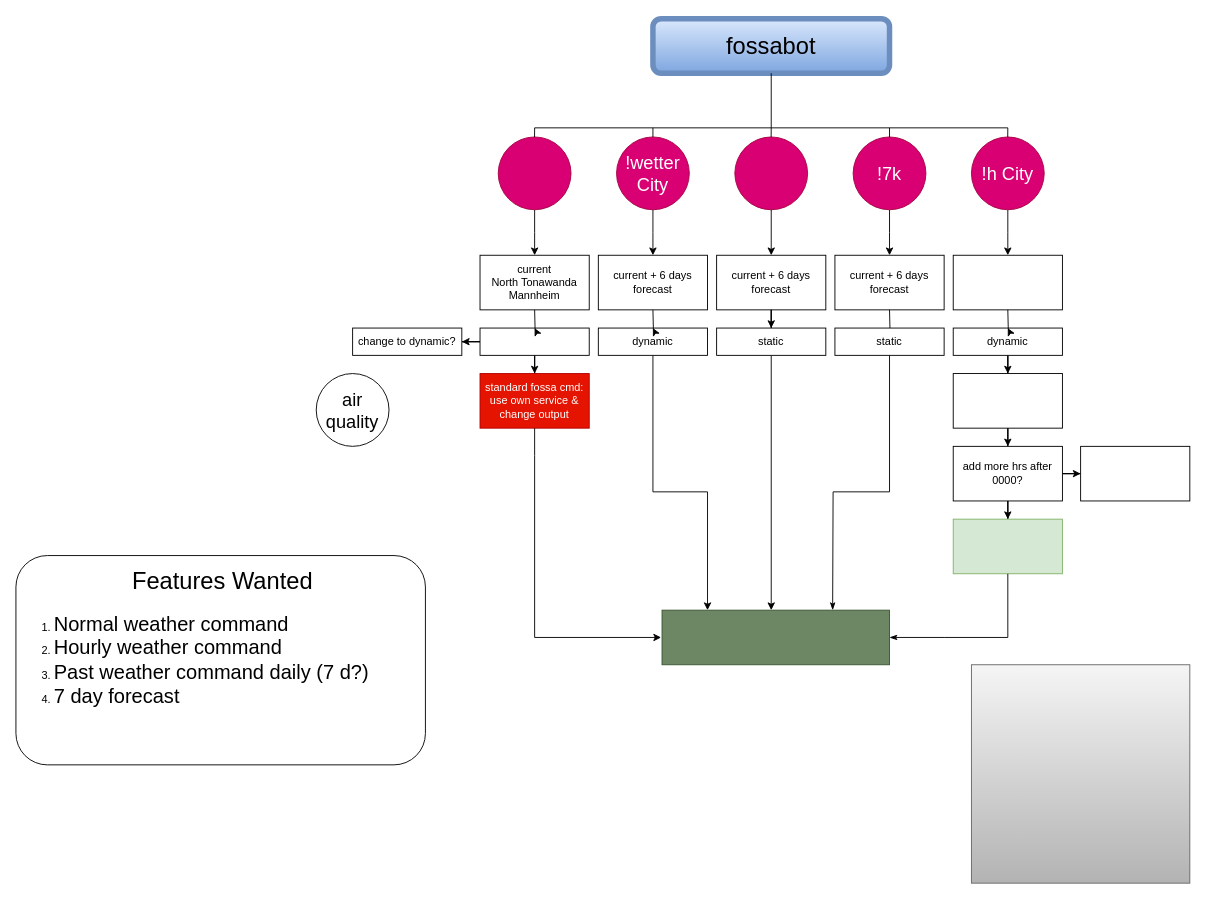
Image size: 1206x899. Some labels were removed from this diagram. The centre of each missing label's shape, as x and y in pixels:
!7m: (x=771, y=173)
!w: (x=534, y=173)
!w "city" "+n_d" !w "city" "-n_d" !w "city" "+n_h" !w "city" "-n_h": (x=1080, y=773)
add fahrenheit: (x=1007, y=400)
add option to specify hrs wanted: (x=1135, y=473)
change to english: (x=1007, y=546)
Combine into 1 repo/service: (x=775, y=637)
hourly forecast: (x=1007, y=282)
static - fossabot: (x=534, y=341)
